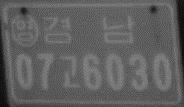0: (104, 54, 127, 93), (152, 52, 173, 92), (14, 53, 35, 92)
3: (128, 53, 149, 92)
6: (82, 51, 104, 93)
7: (35, 51, 57, 91)
경남_D: (42, 12, 137, 45)
고: (57, 54, 82, 91)
영: (9, 12, 39, 47)
